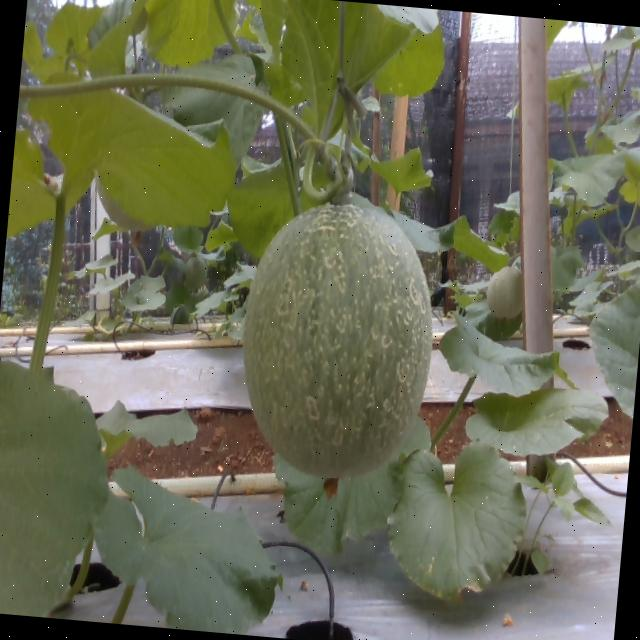melon: (243, 203, 432, 478)
